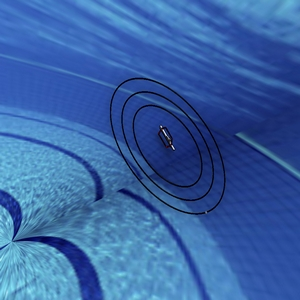circle: (100, 65, 246, 223)
submarine: (150, 120, 177, 155)
